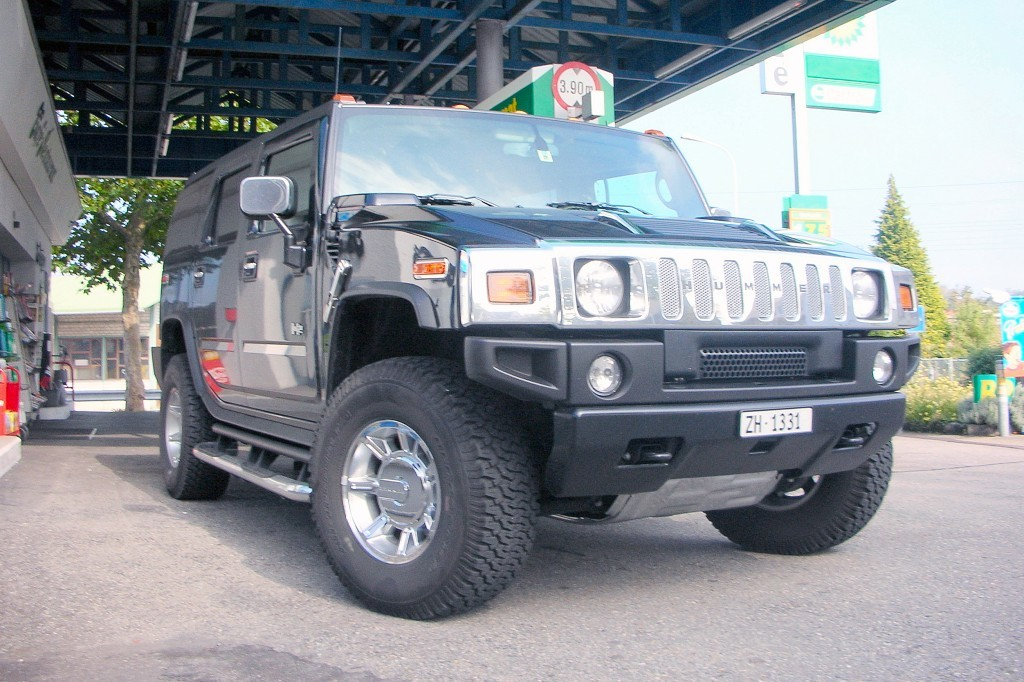Tree: (49, 91, 279, 410), (870, 170, 953, 364)
